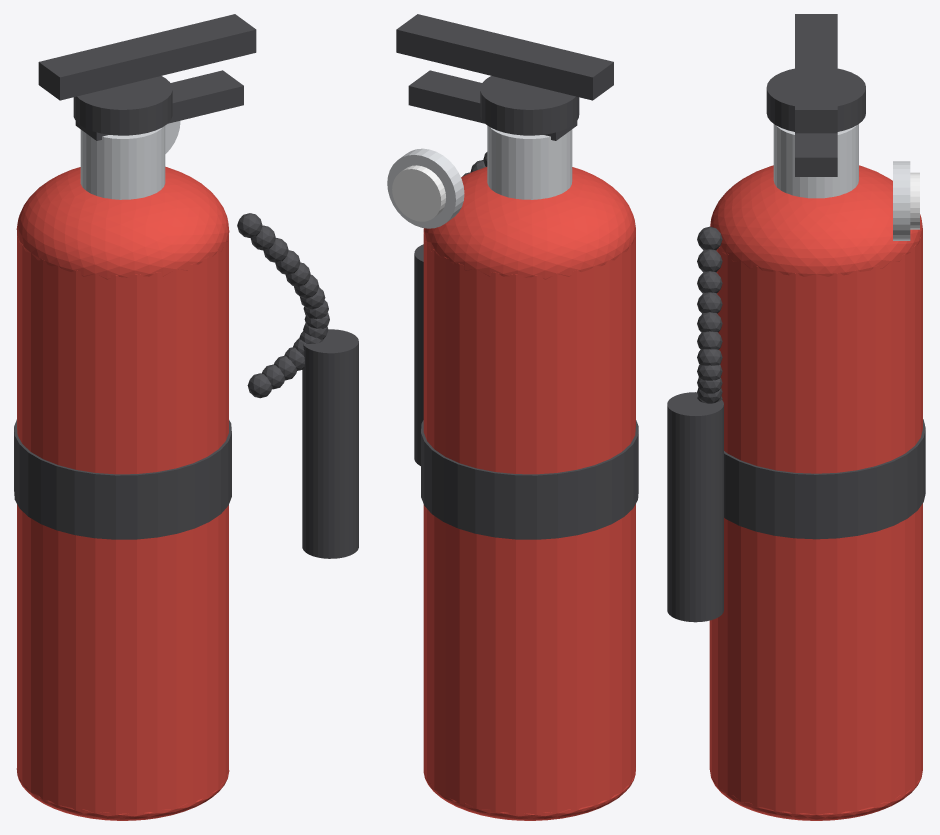
The model's file is extinguisher_co2.glb.
The picture shows the model from 3 angles, left to right: view 1: azimuth 30°, elevation 25°; view 2: azimuth 150°, elevation 25°; view 3: azimuth 270°, elevation 25°; orthographic projection.
Visible parts, largest first — view 1: extinguisher_co2_0, extinguisher_co2_1, extinguisher_co2_3, extinguisher_co2_26, extinguisher_co2_6, extinguisher_co2_4, extinguisher_co2_5, extinguisher_co2_7, extinguisher_co2_2; view 2: extinguisher_co2_0, extinguisher_co2_1, extinguisher_co2_3, extinguisher_co2_6, extinguisher_co2_4, extinguisher_co2_5, extinguisher_co2_7, extinguisher_co2_8, extinguisher_co2_9, extinguisher_co2_26, extinguisher_co2_2; view 3: extinguisher_co2_0, extinguisher_co2_1, extinguisher_co2_3, extinguisher_co2_26, extinguisher_co2_6, extinguisher_co2_4, extinguisher_co2_5, extinguisher_co2_7, extinguisher_co2_8, extinguisher_co2_2, extinguisher_co2_9, extinguisher_co2_10 (+1 smaller).
Boxes of the visible parts, x1,y1,x2,y2 form: extinguisher_co2_0: (17, 233, 228, 814); extinguisher_co2_1: (16, 166, 229, 279); extinguisher_co2_3: (14, 419, 231, 539); extinguisher_co2_26: (302, 329, 358, 558); extinguisher_co2_6: (38, 14, 256, 100); extinguisher_co2_4: (80, 126, 165, 199); extinguisher_co2_5: (73, 76, 172, 135); extinguisher_co2_7: (75, 70, 243, 140); extinguisher_co2_2: (16, 768, 229, 820); extinguisher_co2_0: (423, 232, 635, 814); extinguisher_co2_1: (423, 167, 635, 279); extinguisher_co2_3: (421, 420, 638, 539); extinguisher_co2_6: (396, 14, 613, 100); extinguisher_co2_4: (487, 125, 572, 199); extinguisher_co2_5: (480, 76, 579, 135); extinguisher_co2_7: (408, 70, 577, 140); extinguisher_co2_8: (387, 148, 464, 228); extinguisher_co2_9: (392, 165, 445, 221); extinguisher_co2_26: (414, 244, 423, 465); extinguisher_co2_2: (424, 768, 635, 820); extinguisher_co2_0: (709, 230, 922, 814); extinguisher_co2_1: (710, 165, 922, 276); extinguisher_co2_3: (724, 419, 925, 539); extinguisher_co2_26: (667, 392, 723, 622); extinguisher_co2_6: (795, 14, 837, 133); extinguisher_co2_4: (773, 124, 858, 198); extinguisher_co2_5: (766, 68, 865, 131); extinguisher_co2_7: (795, 133, 837, 176); extinguisher_co2_8: (893, 161, 910, 240); extinguisher_co2_2: (710, 770, 922, 820); extinguisher_co2_9: (910, 172, 919, 229); extinguisher_co2_10: (697, 226, 722, 250).
Size of the model in its own units: 0.217 by 0.5778 by 0.182.
